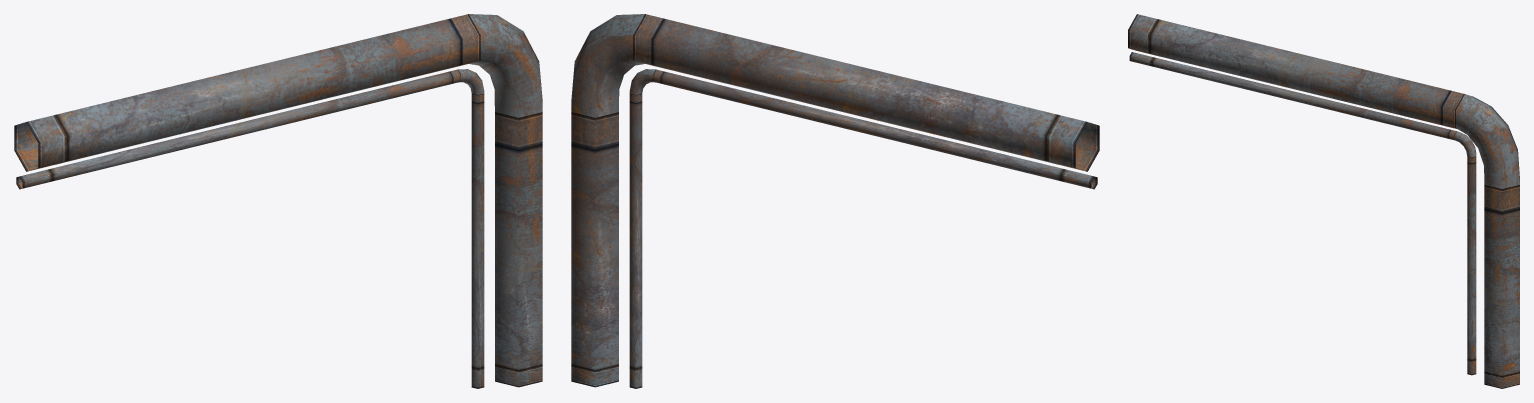
File: BigPipe.fbx
3 views of the same model, side by side, from view 1: azimuth 30°, elevation 25°; view 2: azimuth 150°, elevation 25°; view 3: azimuth 330°, elevation 25° (orthographic). The views are drawn at different scales.
Parts seen in each view (by area): view 1: BigPipe; view 2: BigPipe; view 3: BigPipe.
Part boxes in pixels (bbox=[...]): BigPipe: bbox=[14, 14, 542, 388]; BigPipe: bbox=[571, 14, 1099, 388]; BigPipe: bbox=[1128, 14, 1519, 388].
Size of the model in its own units: 822 by 562 by 64.9.
